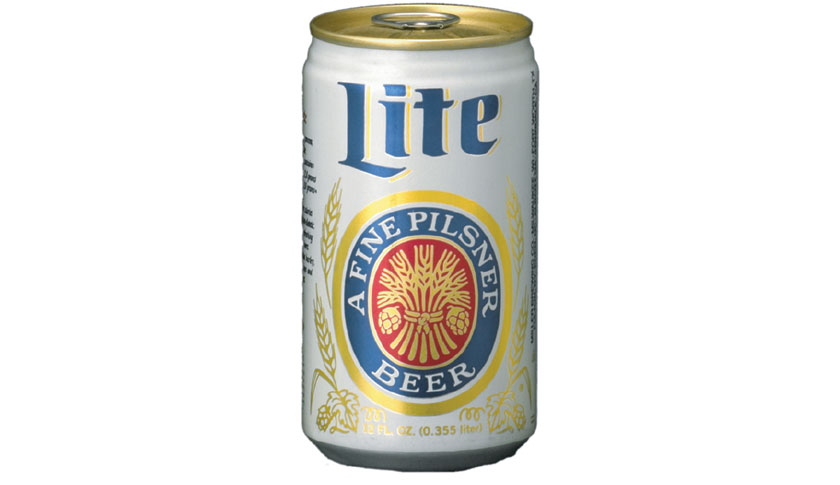beer can: (303, 5, 539, 475)
